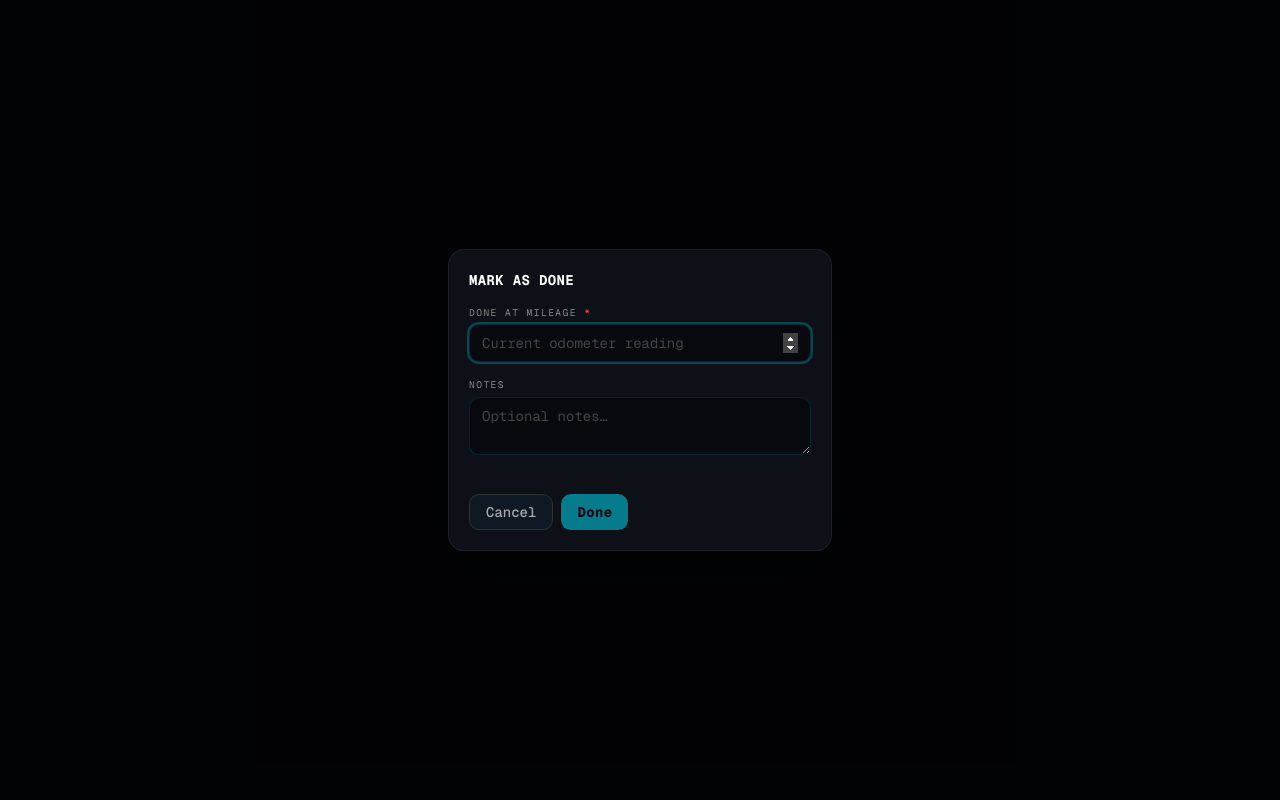
Test: MarkDoneDialog › enables Done button when mileage is required and provided
Type "52000" into the number field with placeholder "Current odometer reading".
click(640, 344); type("52000")  # box [469,324,811,362]
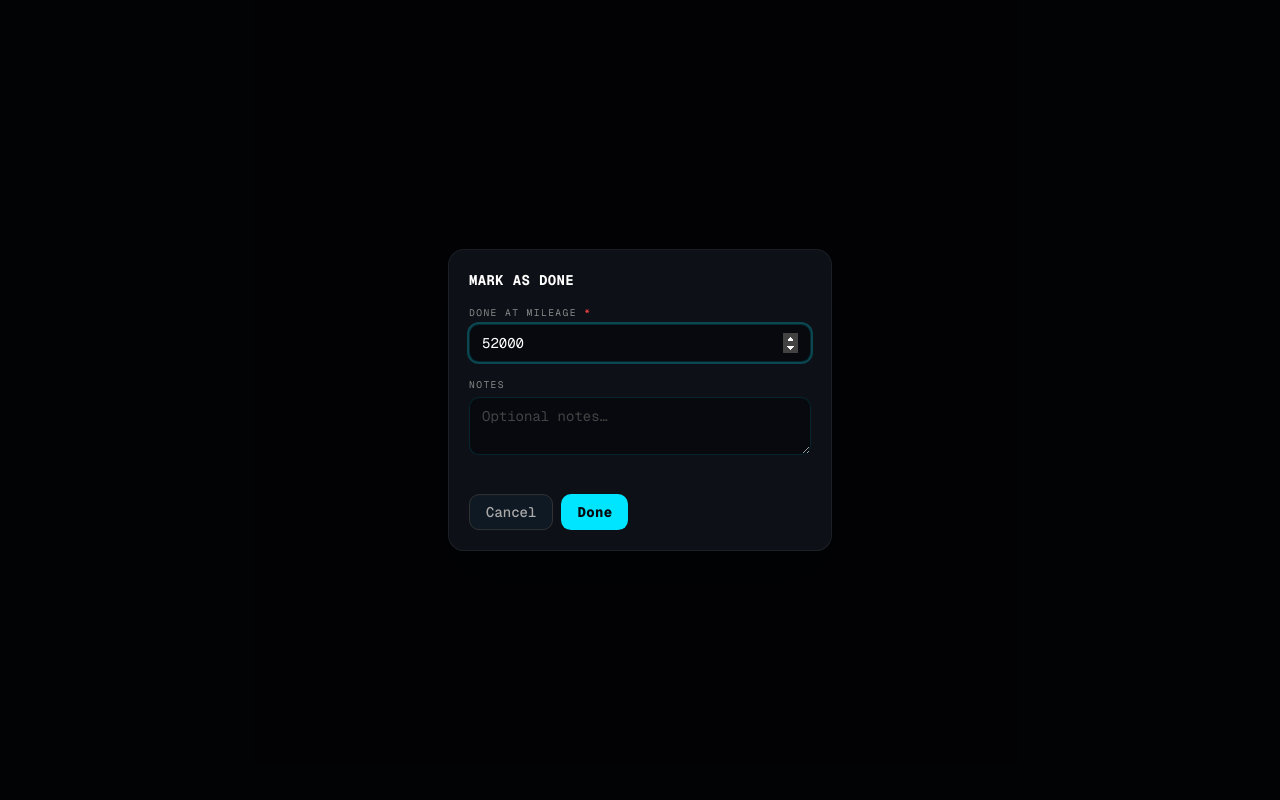
Expected: the button "Done" is enabled, [561,494,628,530]
